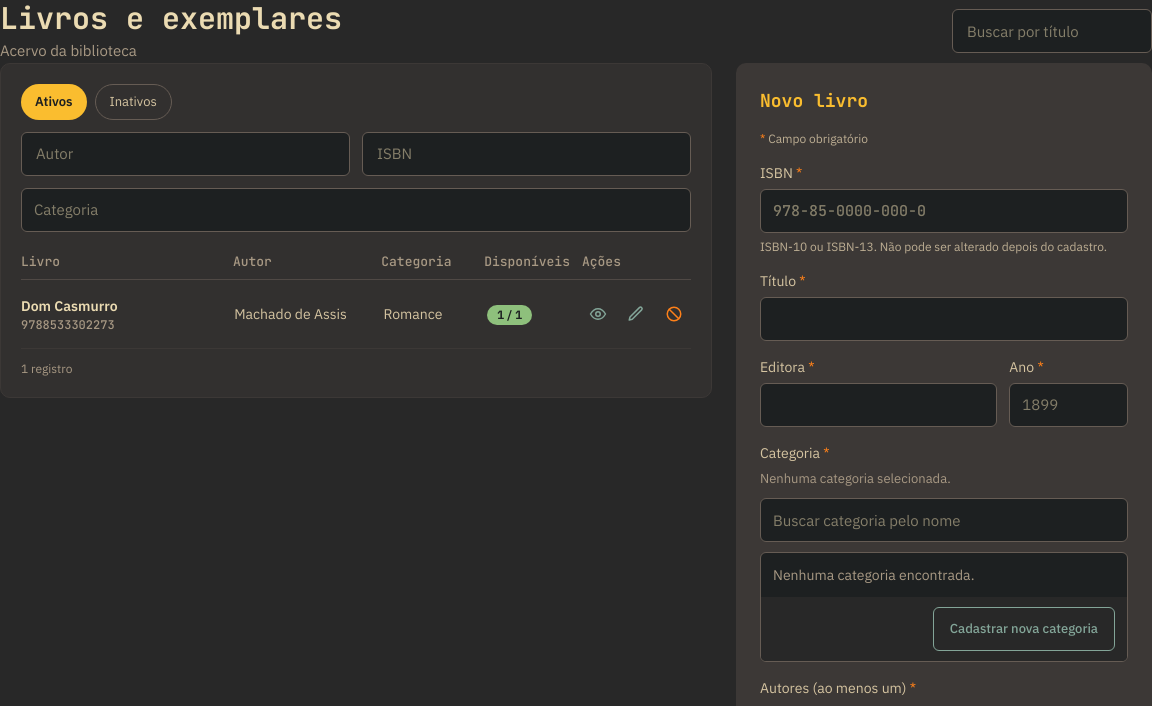
Test: textos do diálogo de inativação › livro: não promete bloqueio por empréstimo e diz quem reativa
Click the button named "Inativar Dom Casmurro": [674, 314] box [657,292,691,336]
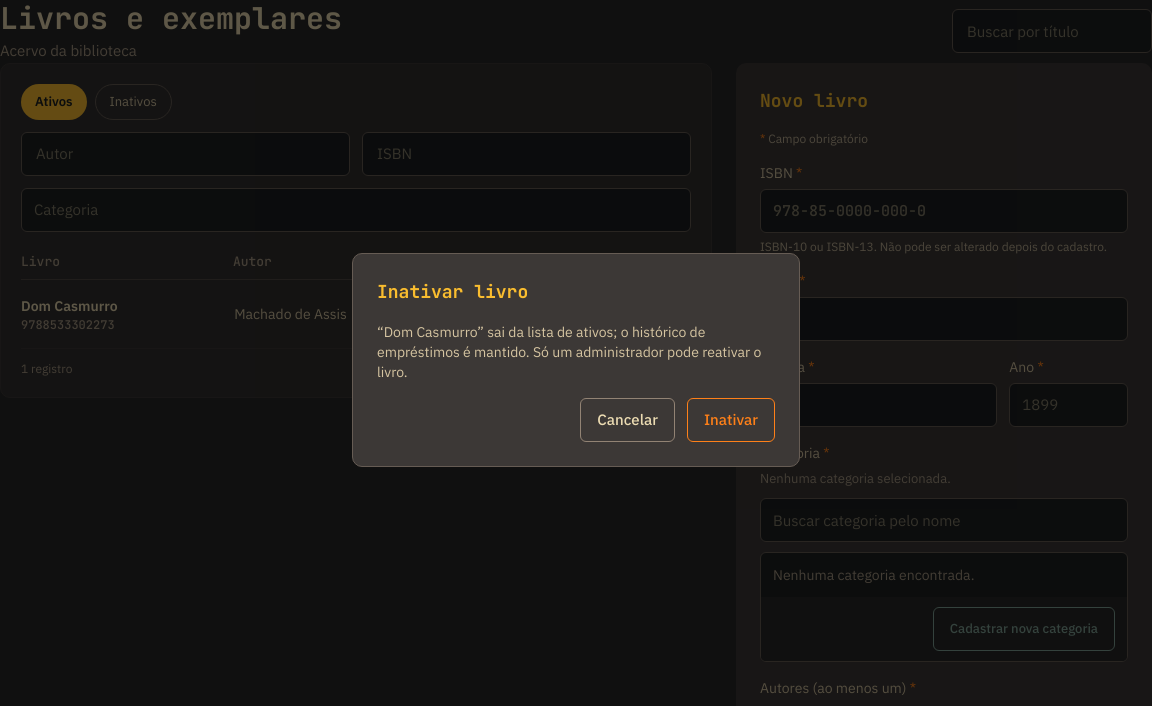
Expected: the dialog does not show "não podem ser inativados", [352,253,800,467]
Expected: the dialog shows "Só um administrador pode reativar o livro.", [377,323,761,381]
